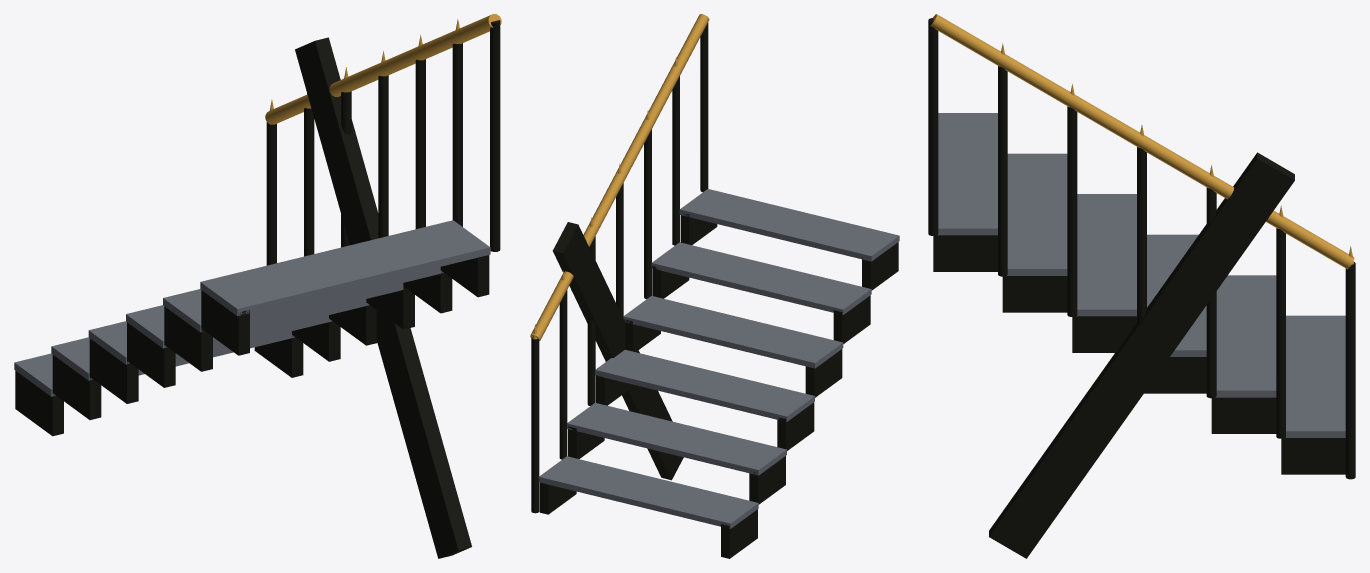
The model's file is external-staircase.glb.
3 renders of one model, left to right at view 1: azimuth 30°, elevation 25°; view 2: azimuth 150°, elevation 25°; view 3: azimuth 270°, elevation 25°, orthographic. The views are drawn at different scales.
Bounding box in the file's own units: 1.15 × 2.4 × 1.72.
